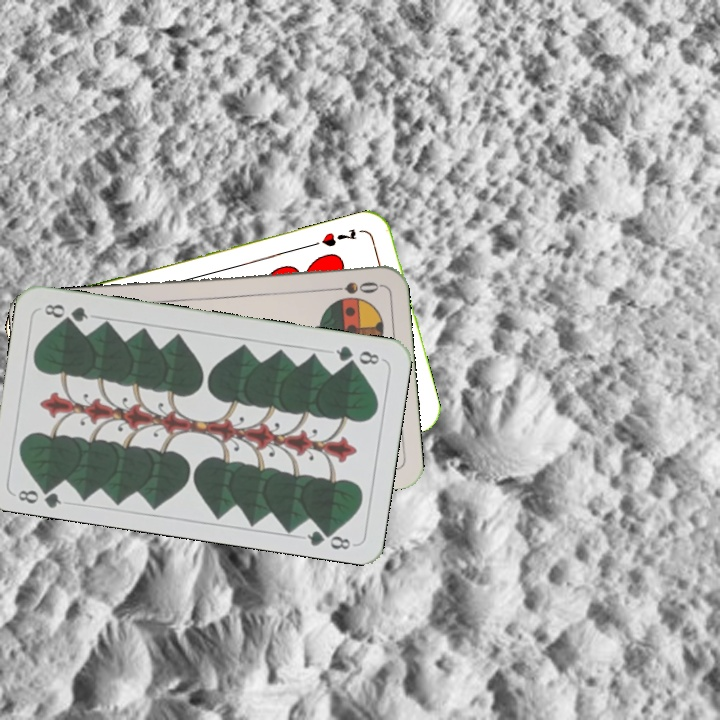G8: (14, 480, 64, 510), (331, 341, 385, 368)
H7: (317, 224, 359, 250)
SO: (323, 277, 382, 296)
